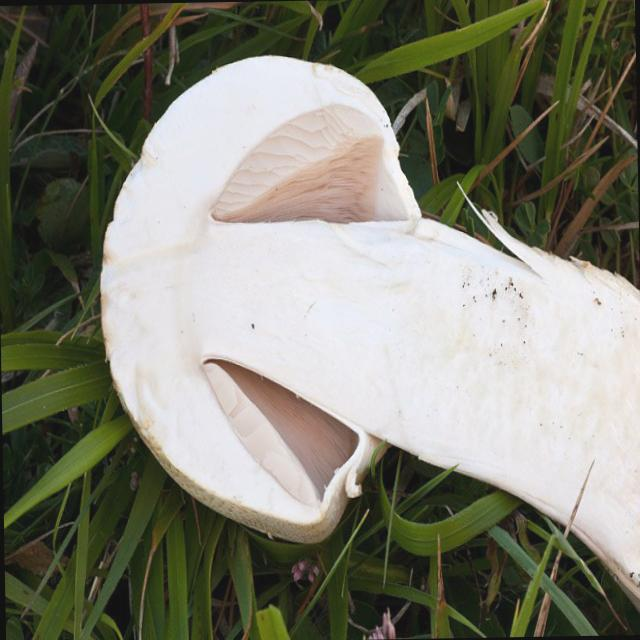Agaricus bisporus: (96, 47, 640, 620)
